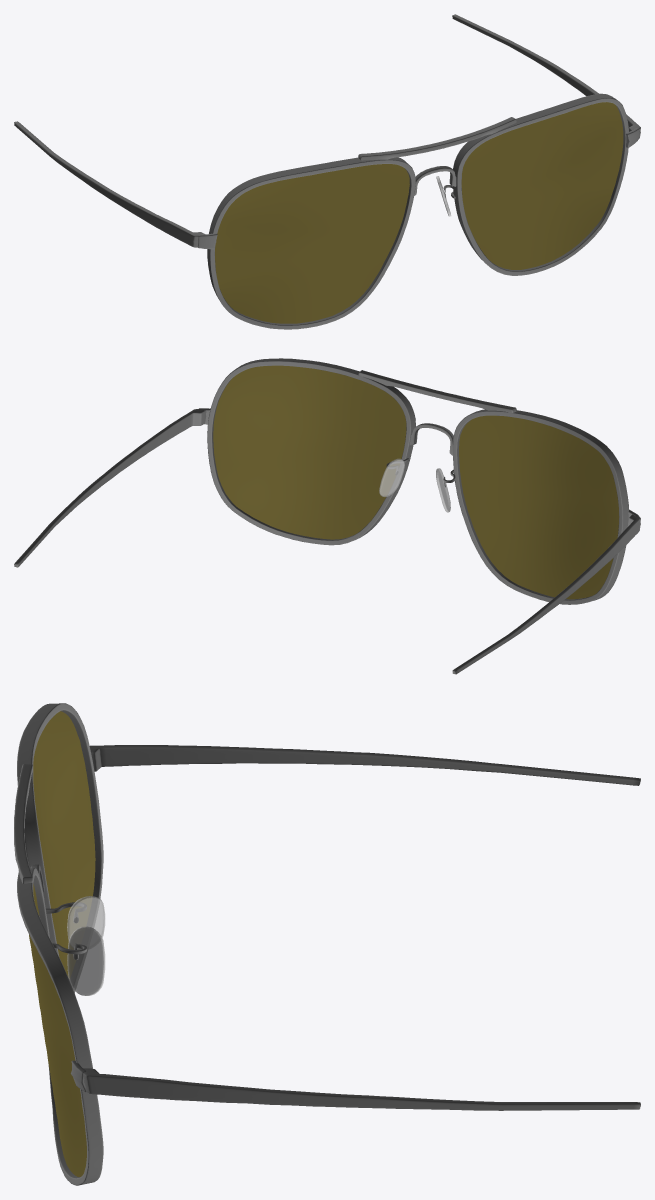
The model's file is chrmcommaps.obj.
3 renders of one model, top to bottom at view 1: azimuth 30°, elevation 25°; view 2: azimuth 150°, elevation 25°; view 3: azimuth 270°, elevation 25°, orthographic. The views are drawn at different scales.
Parts seen in each view (by area): view 1: Lentes, chrmOBJ; view 2: Lentes, chrmOBJ, ponte; view 3: chrmOBJ, Lentes, ponte.
Part boxes in pixels (x1,y1,x2,y2): Lentes: [215, 102, 623, 323]; chrmOBJ: [14, 14, 640, 329]; Lentes: [213, 365, 619, 599]; chrmOBJ: [14, 358, 640, 674]; ponte: [379, 458, 450, 512]; chrmOBJ: [14, 703, 640, 1185]; Lentes: [29, 711, 95, 1177]; ponte: [67, 896, 105, 995].
Size of the model in its own units: 0.1572 by 0.0547 by 0.1203.
3 materials, 3 textured.
